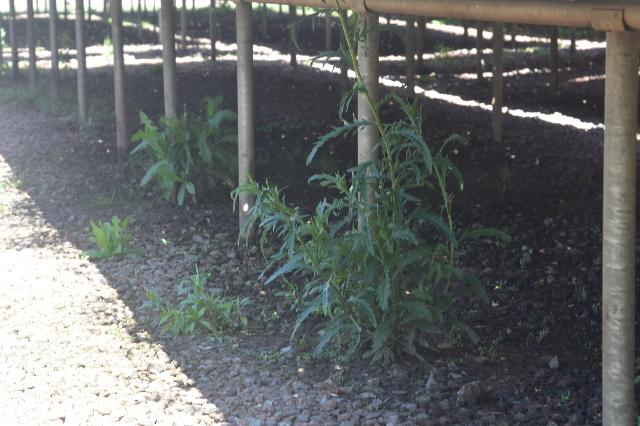MalezaMontesDelPlata: (242, 0, 410, 354), (379, 90, 480, 349), (126, 95, 238, 205), (140, 265, 244, 346), (75, 211, 138, 261)
